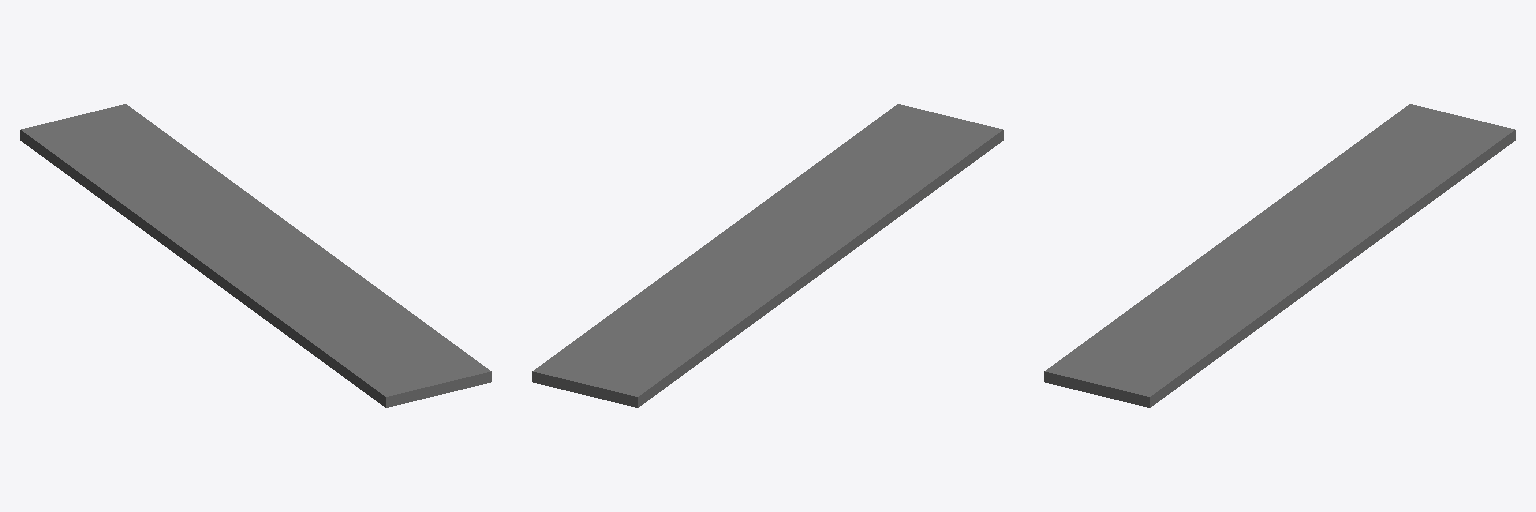
URDF robot description (cube_platform):
<?xml version="1.0"?>
<robot name="cube_platform">
  <link name="platform">
    <visual>
      <geometry>
        <mesh filename="cube_platform.obj" scale="1 1 1"/>
      </geometry>
      <material name="gray">
        <color rgba="0.5 0.5 0.5 1.0"/>
      </material>
    </visual>
    <collision>
      <geometry>
        <mesh filename="cube_platform.obj" scale="1 1 1"/>
      </geometry>
    </collision>
    <inertial>
      <mass value="1.0"/>
      <inertia
          ixx="0.01" ixy="0.0" ixz="0.0"
          iyy="0.01" iyz="0.0"
          izz="0.01"/>
      <origin xyz="0 0 0" rpy="0 0 0"/>
    </inertial>
  </link>
</robot>

--- Facts derived from the render (not from the file) ---
Views: 3 orthographic renders of the robot side by side, from view 1: azimuth 30°, elevation 25°; view 2: azimuth 150°, elevation 25°; view 3: azimuth 330°, elevation 25°.
Model cube_platform with 1 links and 0 joints (none), rooted at platform, posed all joints at 0.
Links seen in each view (by area): view 1: platform; view 2: platform; view 3: platform.
Link boxes in pixels (x1,y1,x2,y2): platform: (20, 104, 491, 407); platform: (532, 104, 1003, 407); platform: (1044, 104, 1515, 407).
Bounding box of the posed robot: 1 × 6 × 0.1 m (x, y, z).
1 mesh visuals loaded from 1 distinct referenced files (1 OBJ).
